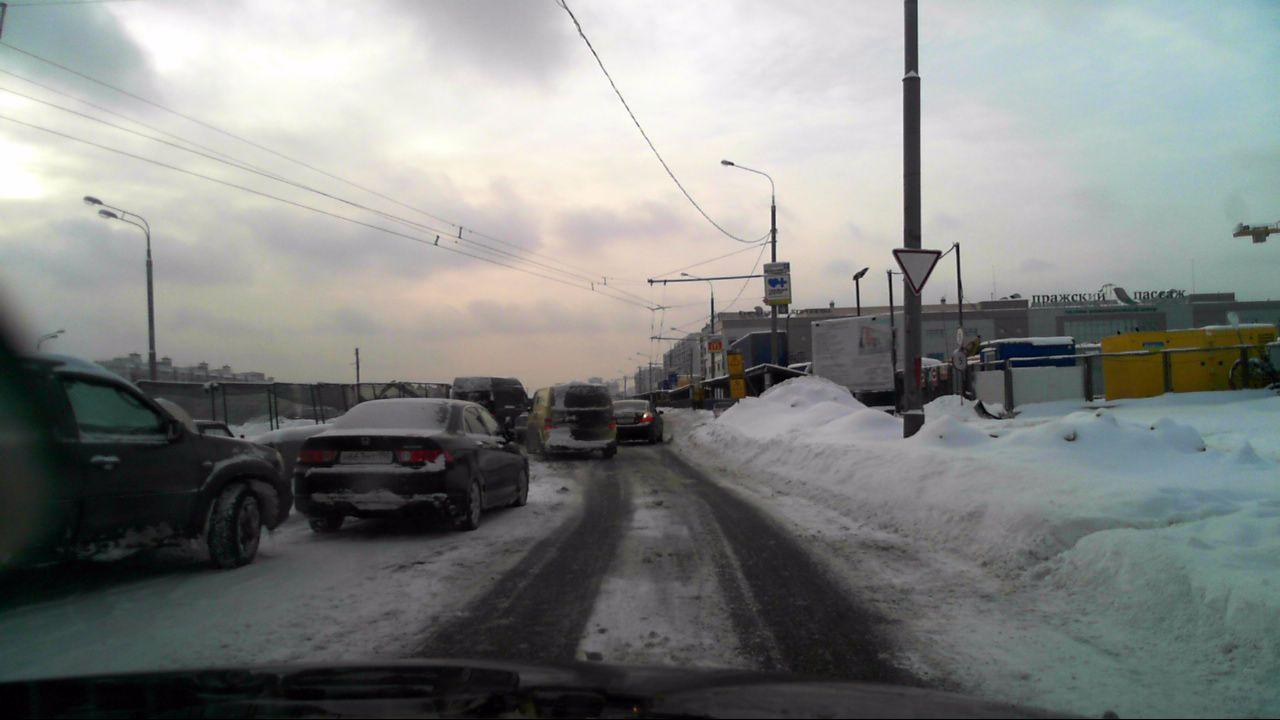2_4: (891, 246, 944, 297)
